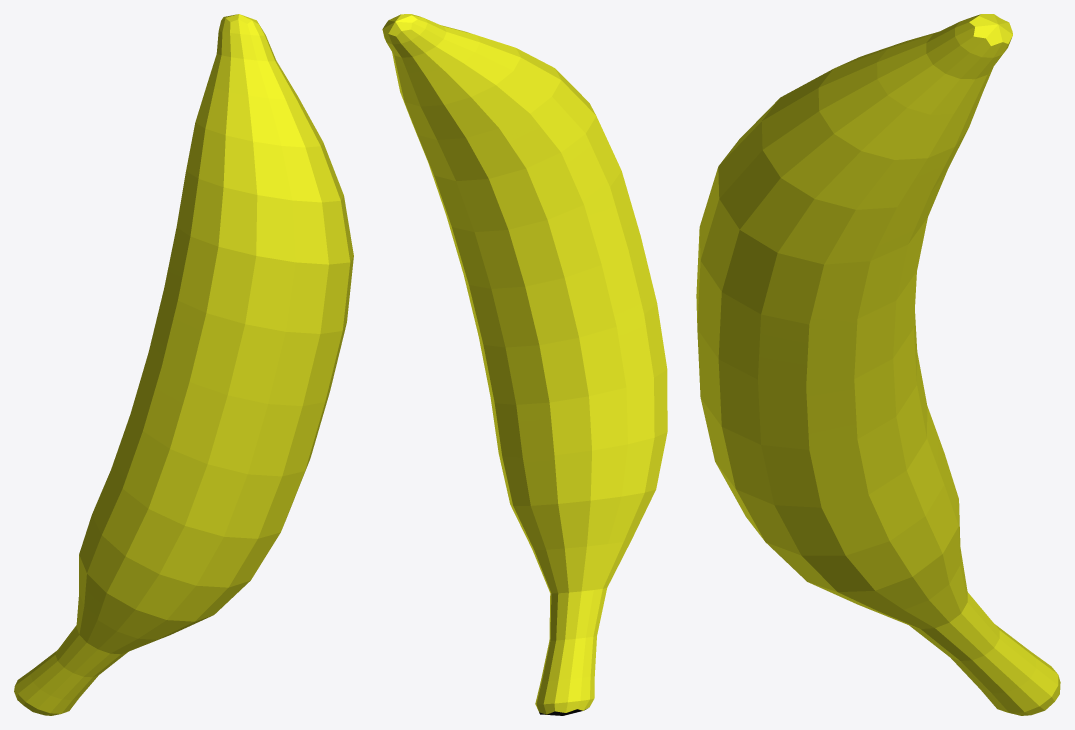
Rendered from banana2.obj.
The picture shows the model from 3 angles, left to right: view 1: azimuth 30°, elevation 25°; view 2: azimuth 150°, elevation 25°; view 3: azimuth 270°, elevation 25°; orthographic projection. The views are drawn at different scales.
Visible parts, largest first — view 1: Banana; view 2: Banana; view 3: Banana.
Boxes of the visible parts, box(x1,y1,x2,y2) form: Banana: box(14, 14, 353, 715); Banana: box(382, 14, 667, 715); Banana: box(696, 14, 1060, 715).
Bounding box in the file's own units: 242 × 630 × 262.
